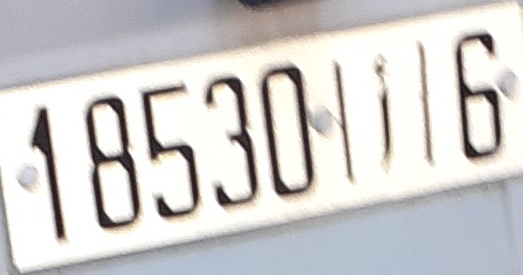0: (257, 63, 318, 198)
1: (27, 100, 72, 243)
3: (201, 74, 260, 210)
5: (138, 80, 202, 220)
6: (450, 29, 503, 162)
8: (81, 93, 142, 233)
a: (368, 49, 400, 175)
